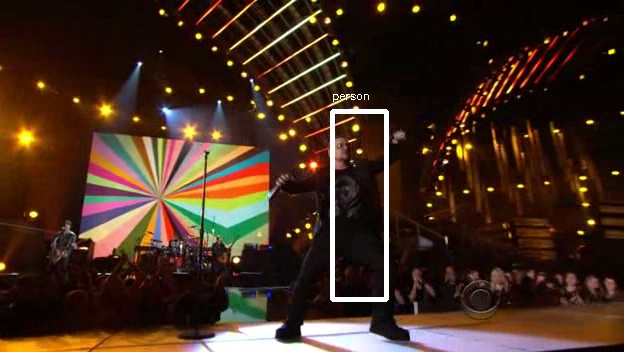person: (313, 134, 380, 255), (310, 134, 377, 255), (316, 134, 383, 255), (313, 131, 380, 252), (313, 137, 380, 258)
target_negative: (151, 70, 454, 341), (239, 70, 485, 152), (522, 165, 612, 313), (193, 28, 287, 47), (198, 171, 277, 184), (443, 315, 455, 336)
